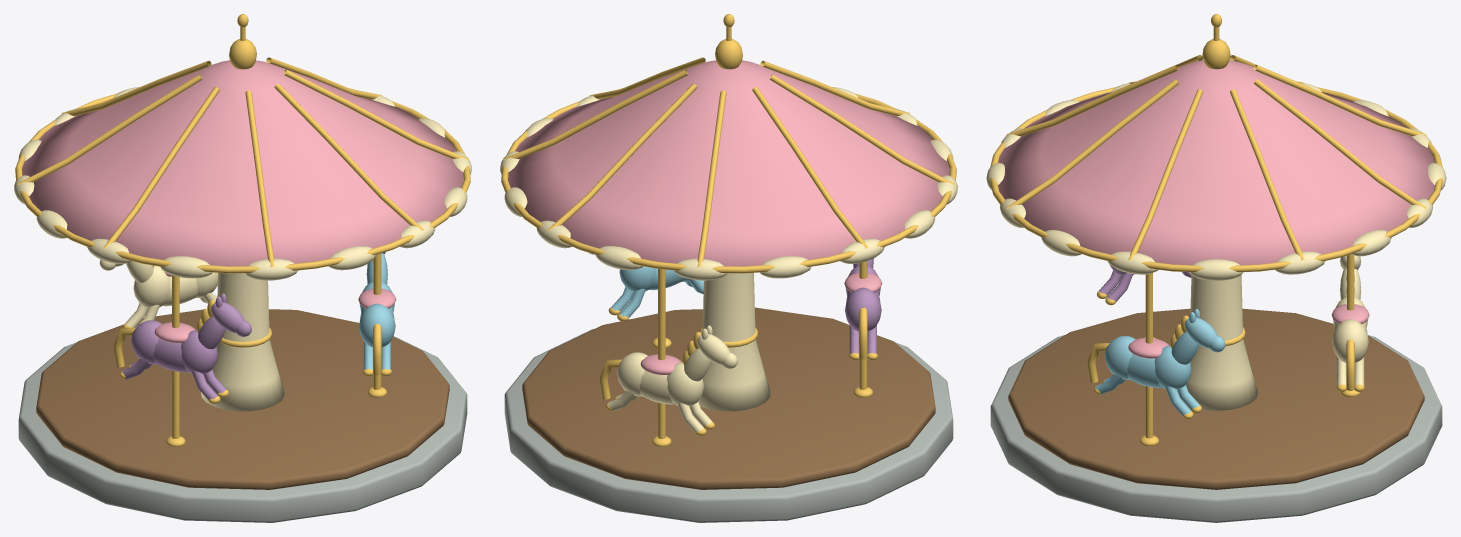
Rendered from decor-carousel.glb.
The picture shows the model from 3 angles, left to right: view 1: azimuth 30°, elevation 25°; view 2: azimuth 150°, elevation 25°; view 3: azimuth 270°, elevation 25°; orthographic projection.
Parts seen in each view (by area): view 1: carousel-pink.009, carousel-wood.009, carousel-stone.009, carousel-gold.009, carousel-cream.009, carousel-plum.009, carousel-sky.009; view 2: carousel-pink.009, carousel-wood.009, carousel-stone.009, carousel-cream.009, carousel-gold.009, carousel-plum.009, carousel-sky.009; view 3: carousel-pink.009, carousel-wood.009, carousel-stone.009, carousel-gold.009, carousel-cream.009, carousel-sky.009, carousel-plum.009.
Boxes of the visible parts, x1=… form: carousel-pink.009: x1=22, y1=60, x2=463, y2=342; carousel-wood.009: x1=36, y1=309, x2=449, y2=489; carousel-stone.009: x1=18, y1=336, x2=467, y2=522; carousel-gold.009: x1=15, y1=14, x2=470, y2=446; carousel-cream.009: x1=14, y1=87, x2=471, y2=411; carousel-plum.009: x1=122, y1=293, x2=251, y2=399; carousel-sky.009: x1=359, y1=252, x2=395, y2=369; carousel-pink.009: x1=508, y1=60, x2=949, y2=374; carousel-wood.009: x1=522, y1=307, x2=935, y2=489; carousel-stone.009: x1=504, y1=329, x2=953, y2=522; carousel-cream.009: x1=500, y1=87, x2=957, y2=432; carousel-gold.009: x1=501, y1=14, x2=956, y2=446; carousel-plum.009: x1=845, y1=258, x2=881, y2=353; carousel-sky.009: x1=589, y1=253, x2=703, y2=317; carousel-pink.009: x1=998, y1=60, x2=1434, y2=358; carousel-wood.009: x1=1008, y1=308, x2=1424, y2=489; carousel-stone.009: x1=990, y1=335, x2=1442, y2=522; carousel-gold.009: x1=990, y1=14, x2=1442, y2=445; carousel-cream.009: x1=986, y1=83, x2=1446, y2=410; carousel-sky.009: x1=1096, y1=309, x2=1225, y2=416; carousel-plum.009: x1=1099, y1=265, x2=1191, y2=301.
Size of the model in its own units: 6.52 by 6.48 by 6.52.
